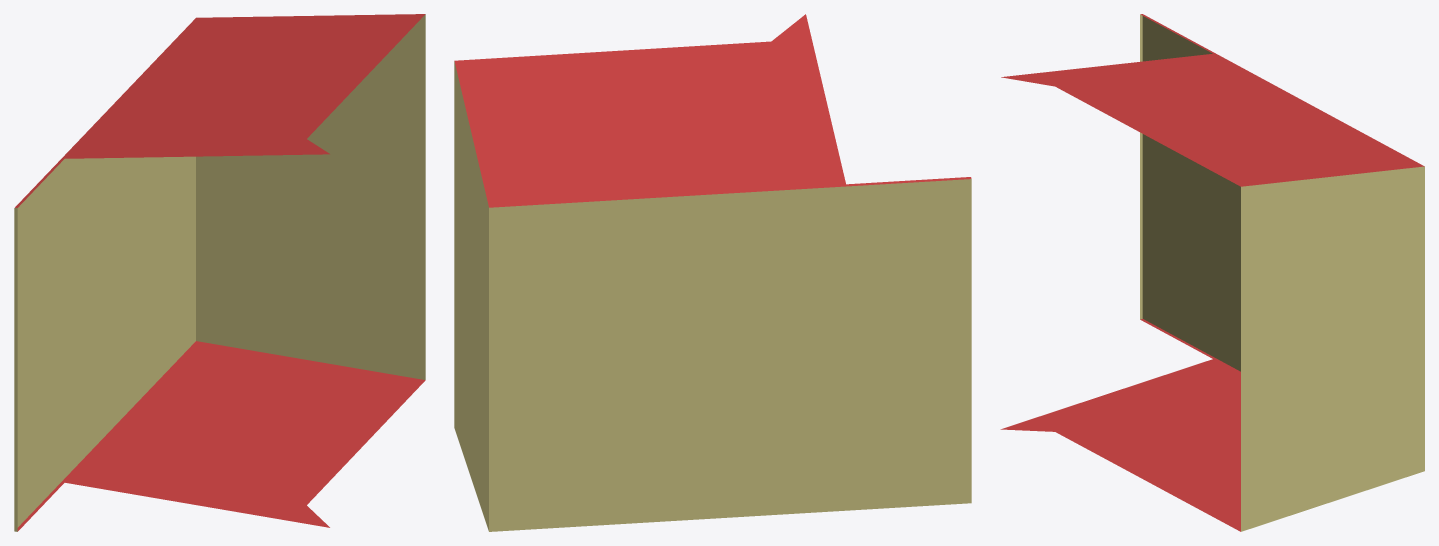
3 renders of one model, left to right at view 1: azimuth 30°, elevation 25°; view 2: azimuth 150°, elevation 25°; view 3: azimuth 270°, elevation 25°, orthographic. The views are drawn at different scales.
Size of the model in its own units: 7.85 by 6.61 by 6.05.
